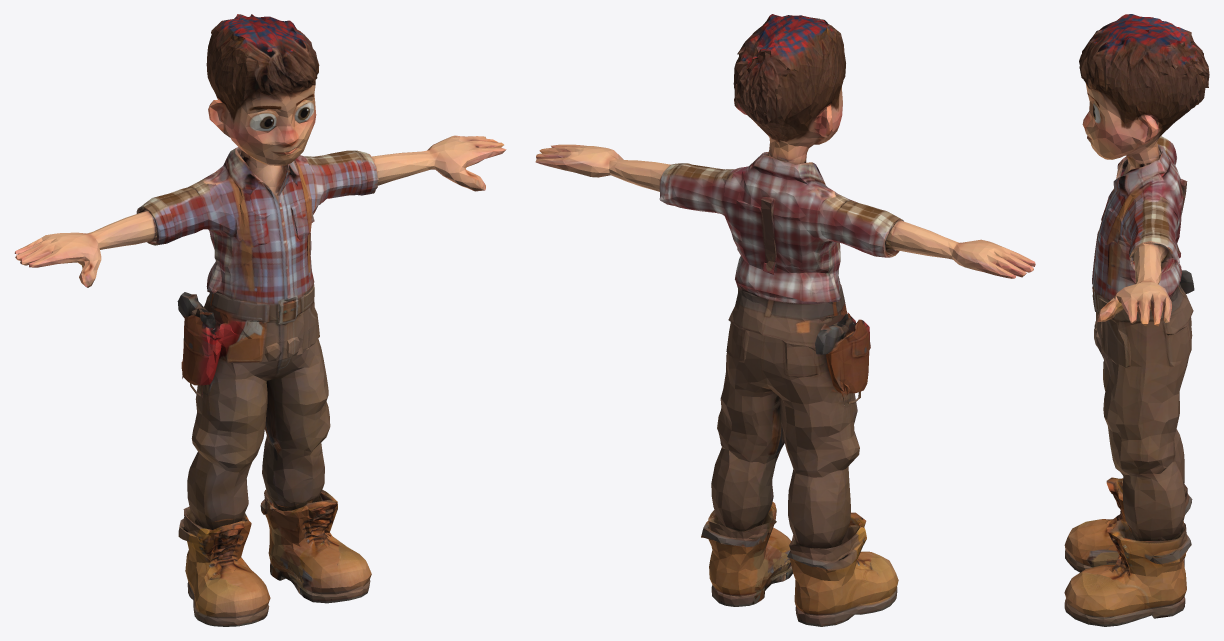
The model's file is A_stylized_3D_cartoon_0610223148_texture.fbx.
3 renders of one model, left to right at view 1: azimuth 30°, elevation 25°; view 2: azimuth 150°, elevation 25°; view 3: azimuth 270°, elevation 25°, orthographic. The views are drawn at different scales.
Parts seen in each view (by area): view 1: temp; view 2: temp; view 3: temp.
Boxes of the visible parts, x1,y1,x2,y2 form: temp: (14,14,506,626); temp: (535,14,1035,626); temp: (1064,14,1209,626).
Size of the model in its own units: 177 by 198 by 46.51.
Materials: 1 (1 with a texture image).
